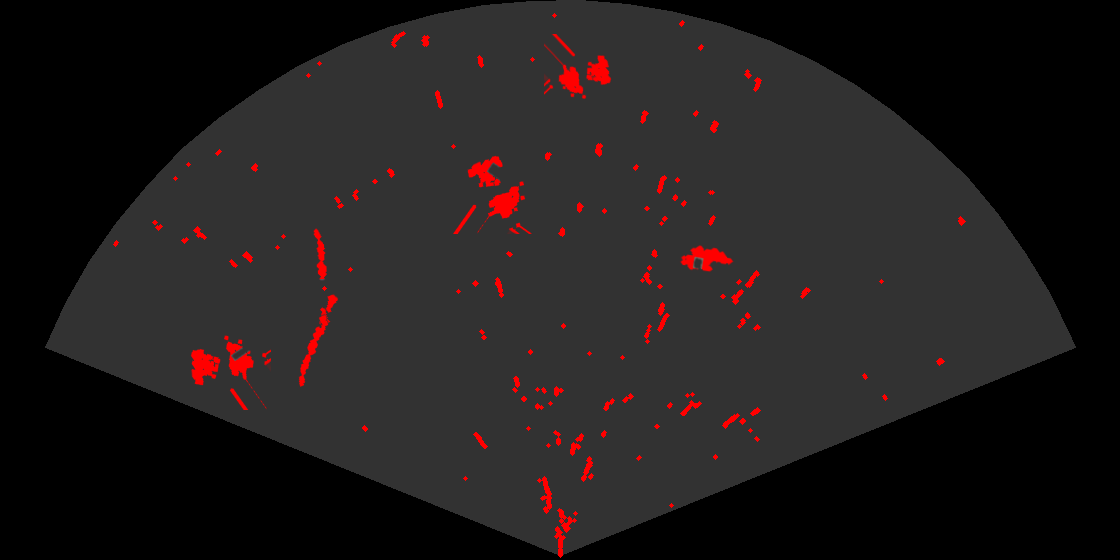AUV: (678, 244, 735, 274)
cage: (452, 154, 533, 234), (189, 334, 271, 410), (544, 34, 613, 101)
chain: (297, 293, 340, 388), (312, 227, 332, 327)
